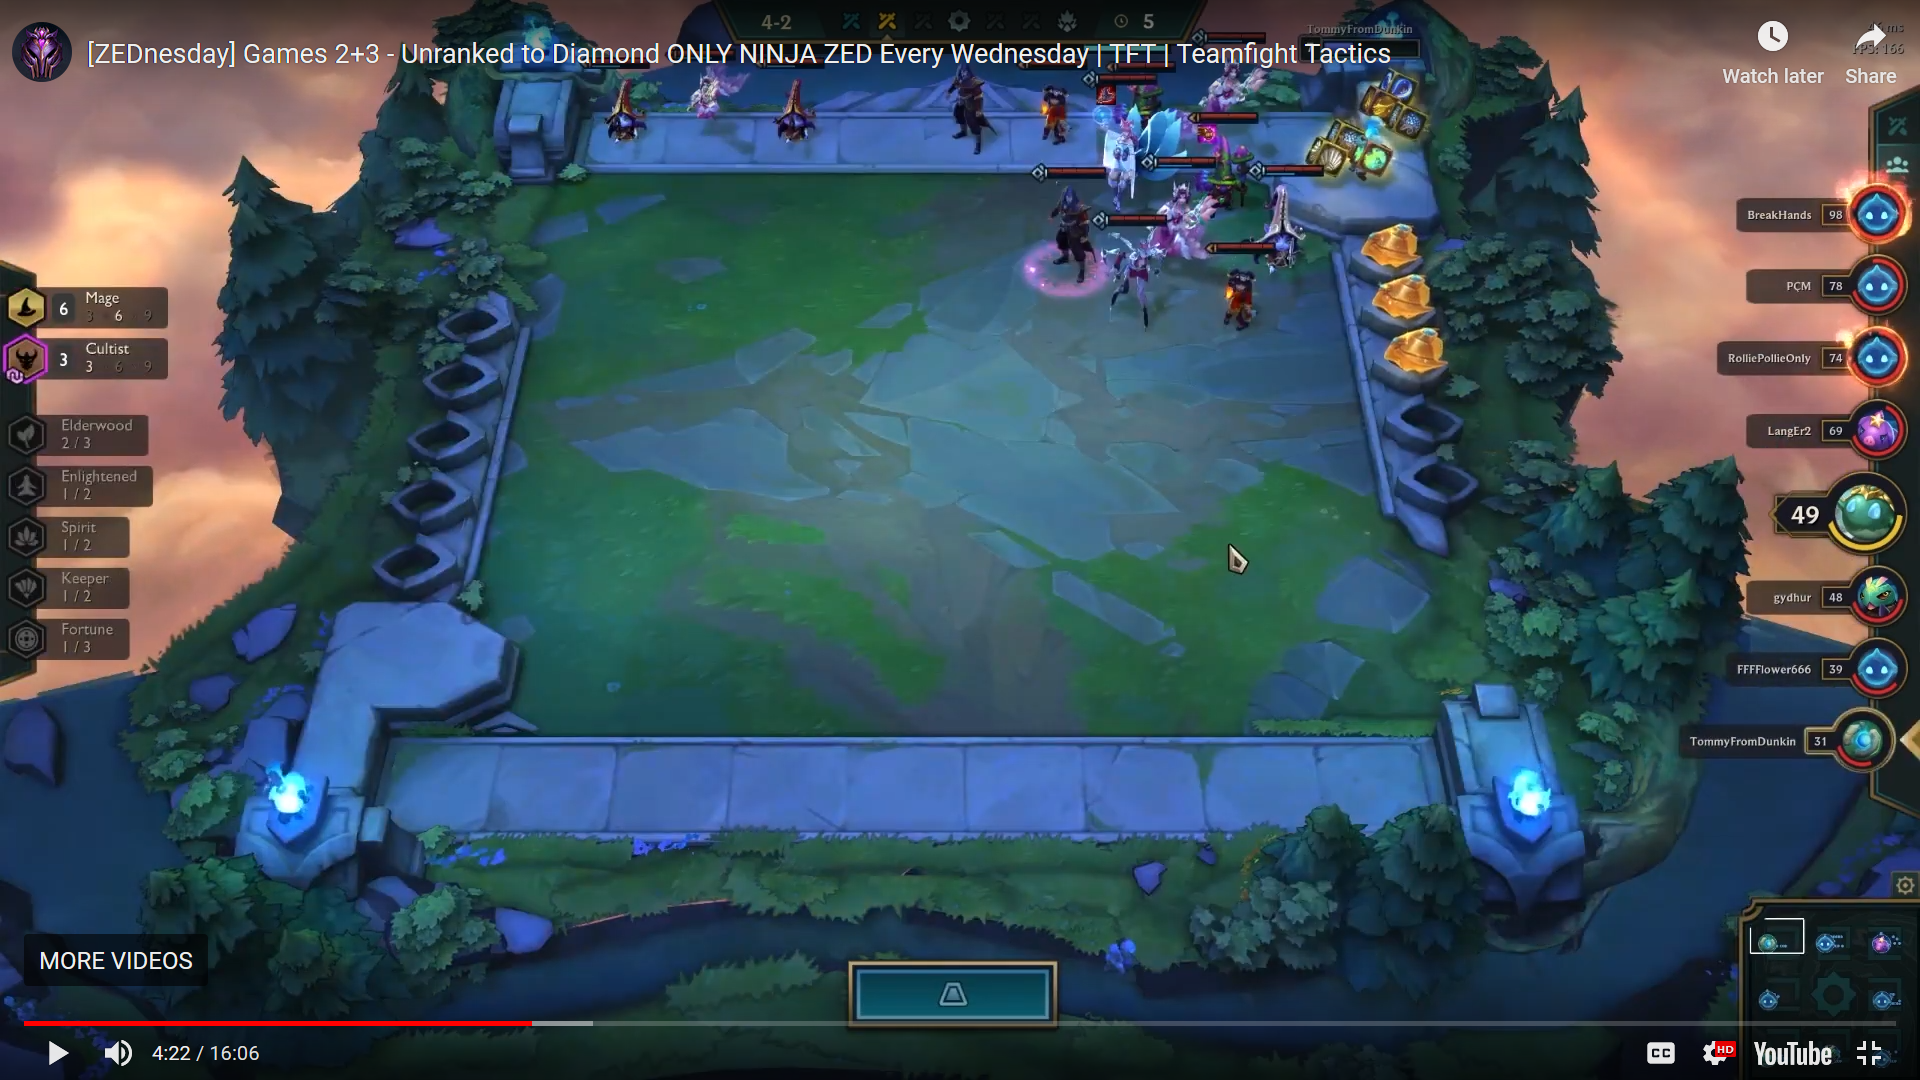1star_annie: (1197, 233, 1283, 342)
1star_veigar: (1182, 103, 1269, 218)
2star_ahri: (1075, 63, 1187, 220)
2star_elise: (1080, 204, 1179, 342)
2star_lulu: (1234, 153, 1328, 284)
2star_nami: (1129, 145, 1226, 278)
2star_twistedfate: (1011, 154, 1124, 307)
2star_twistedfate_chosen: (1009, 152, 1121, 305)
item_jeweledgauntlet: (1195, 121, 1220, 145)
item_rabadon: (1095, 82, 1120, 105)
trait_cultist3: (1, 331, 174, 392)
trait_cultist_chosen: (1, 332, 55, 386)
trait_elderwood2: (1, 410, 174, 462)
trait_enlightened1: (1, 462, 174, 513)
trait_fortune1: (1, 605, 174, 665)
trait_keeper1: (1, 555, 174, 615)
trait_mage6: (1, 280, 174, 339)
trait_spirit1: (1, 504, 174, 564)
